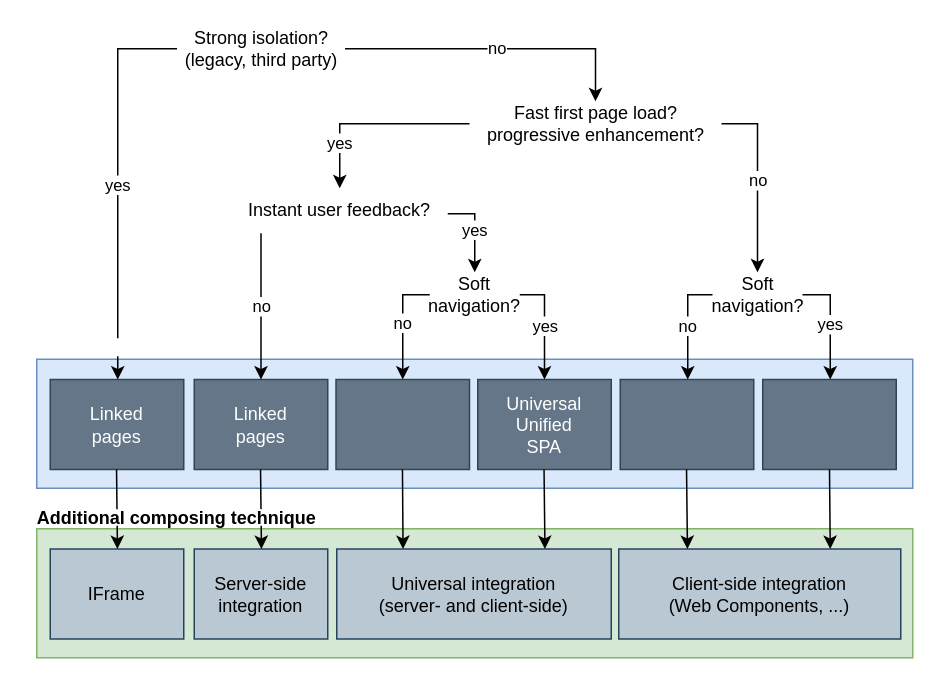
The diagram is 939 pixels wide and 684 high, and some of its shapes have lost their labels. Here are the shapes that lost their labels. From the top down, the box of each, then its label:
(36, 338, 234, 356): High-level architecture
(334, 378, 470, 470): Linked Universal SPAs
(619, 378, 754, 470): Linked SPAs
(761, 378, 896, 470): Unified SPA
